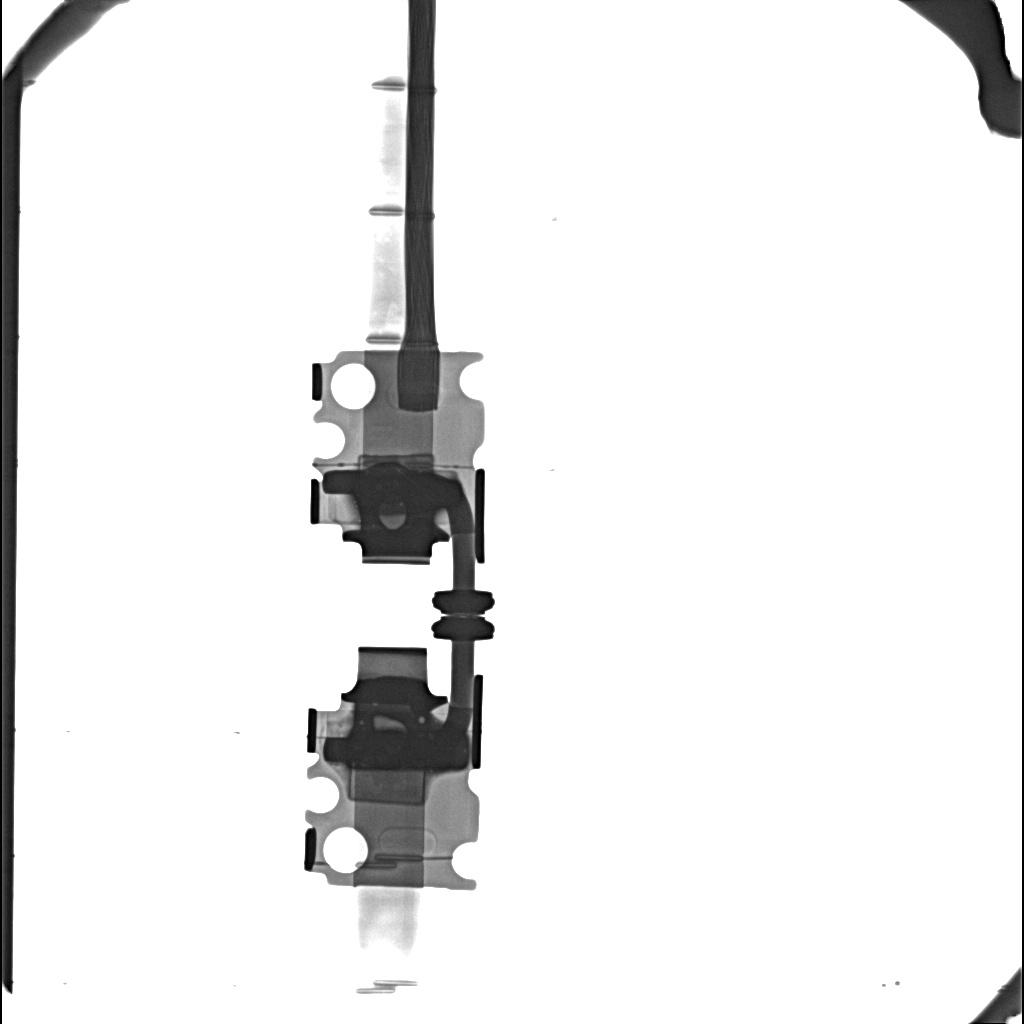PX: (348, 770, 427, 805), (357, 453, 435, 468)
QP: (371, 714, 406, 731), (380, 514, 407, 529), (418, 716, 426, 724)
SX: (345, 727, 468, 770), (353, 472, 461, 512)
